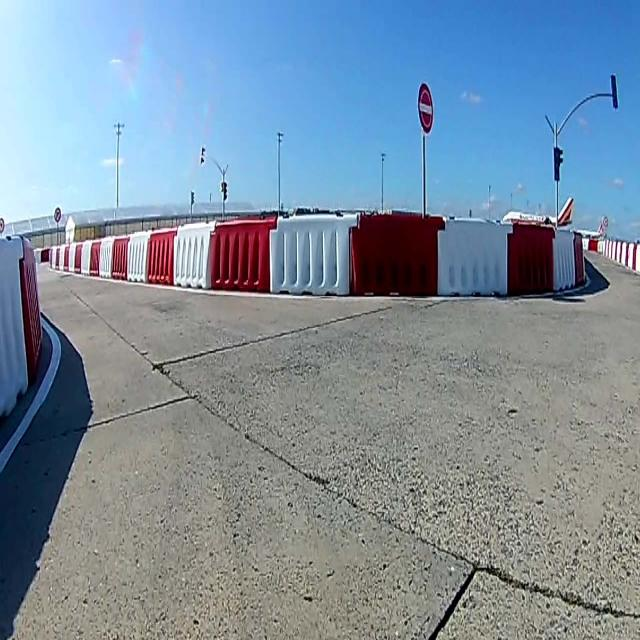girisyok: (418, 81, 433, 135)
